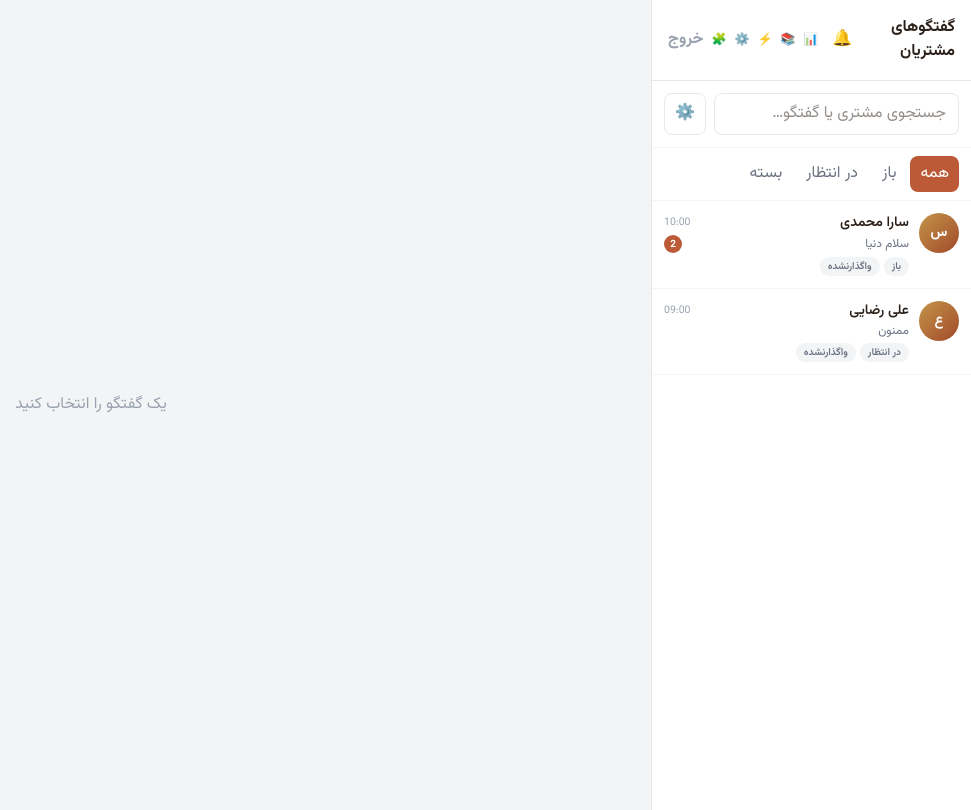
it: Operator dashboard — customer conversations page › filters the list by status tab
expect the text "سارا محمدی" is shown: met, box [840,213,909,233]
Click the button "در انتظار" at (832, 174), box [796,156,868,192]
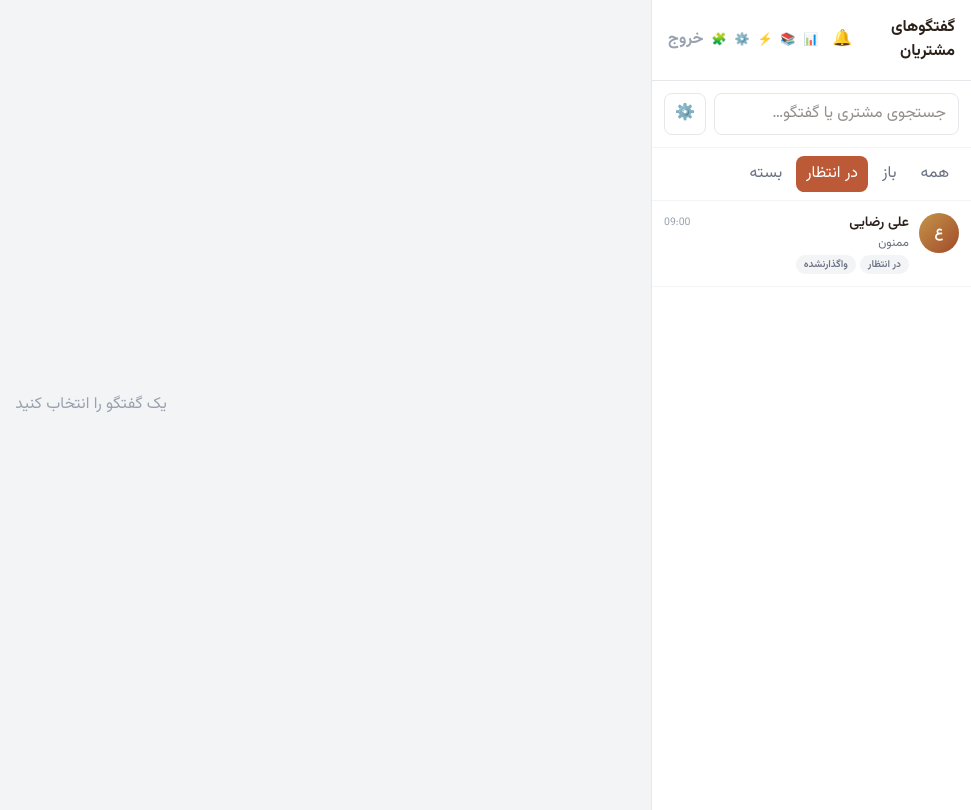
expect the text "علی رضایی" is shown: met, box [849,213,909,233]
expect the text "سارا محمدی" is gone: met
